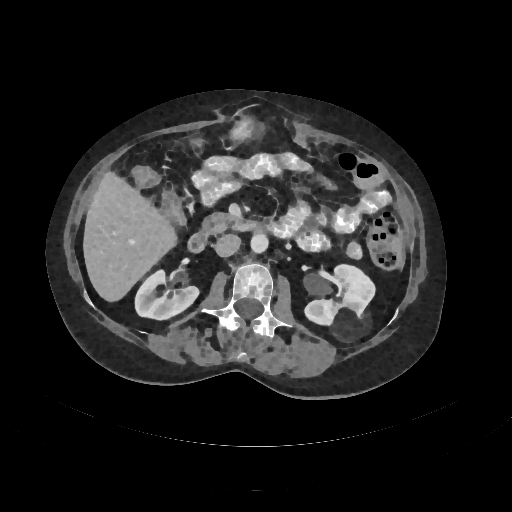Lesion: (329, 306, 376, 344)
